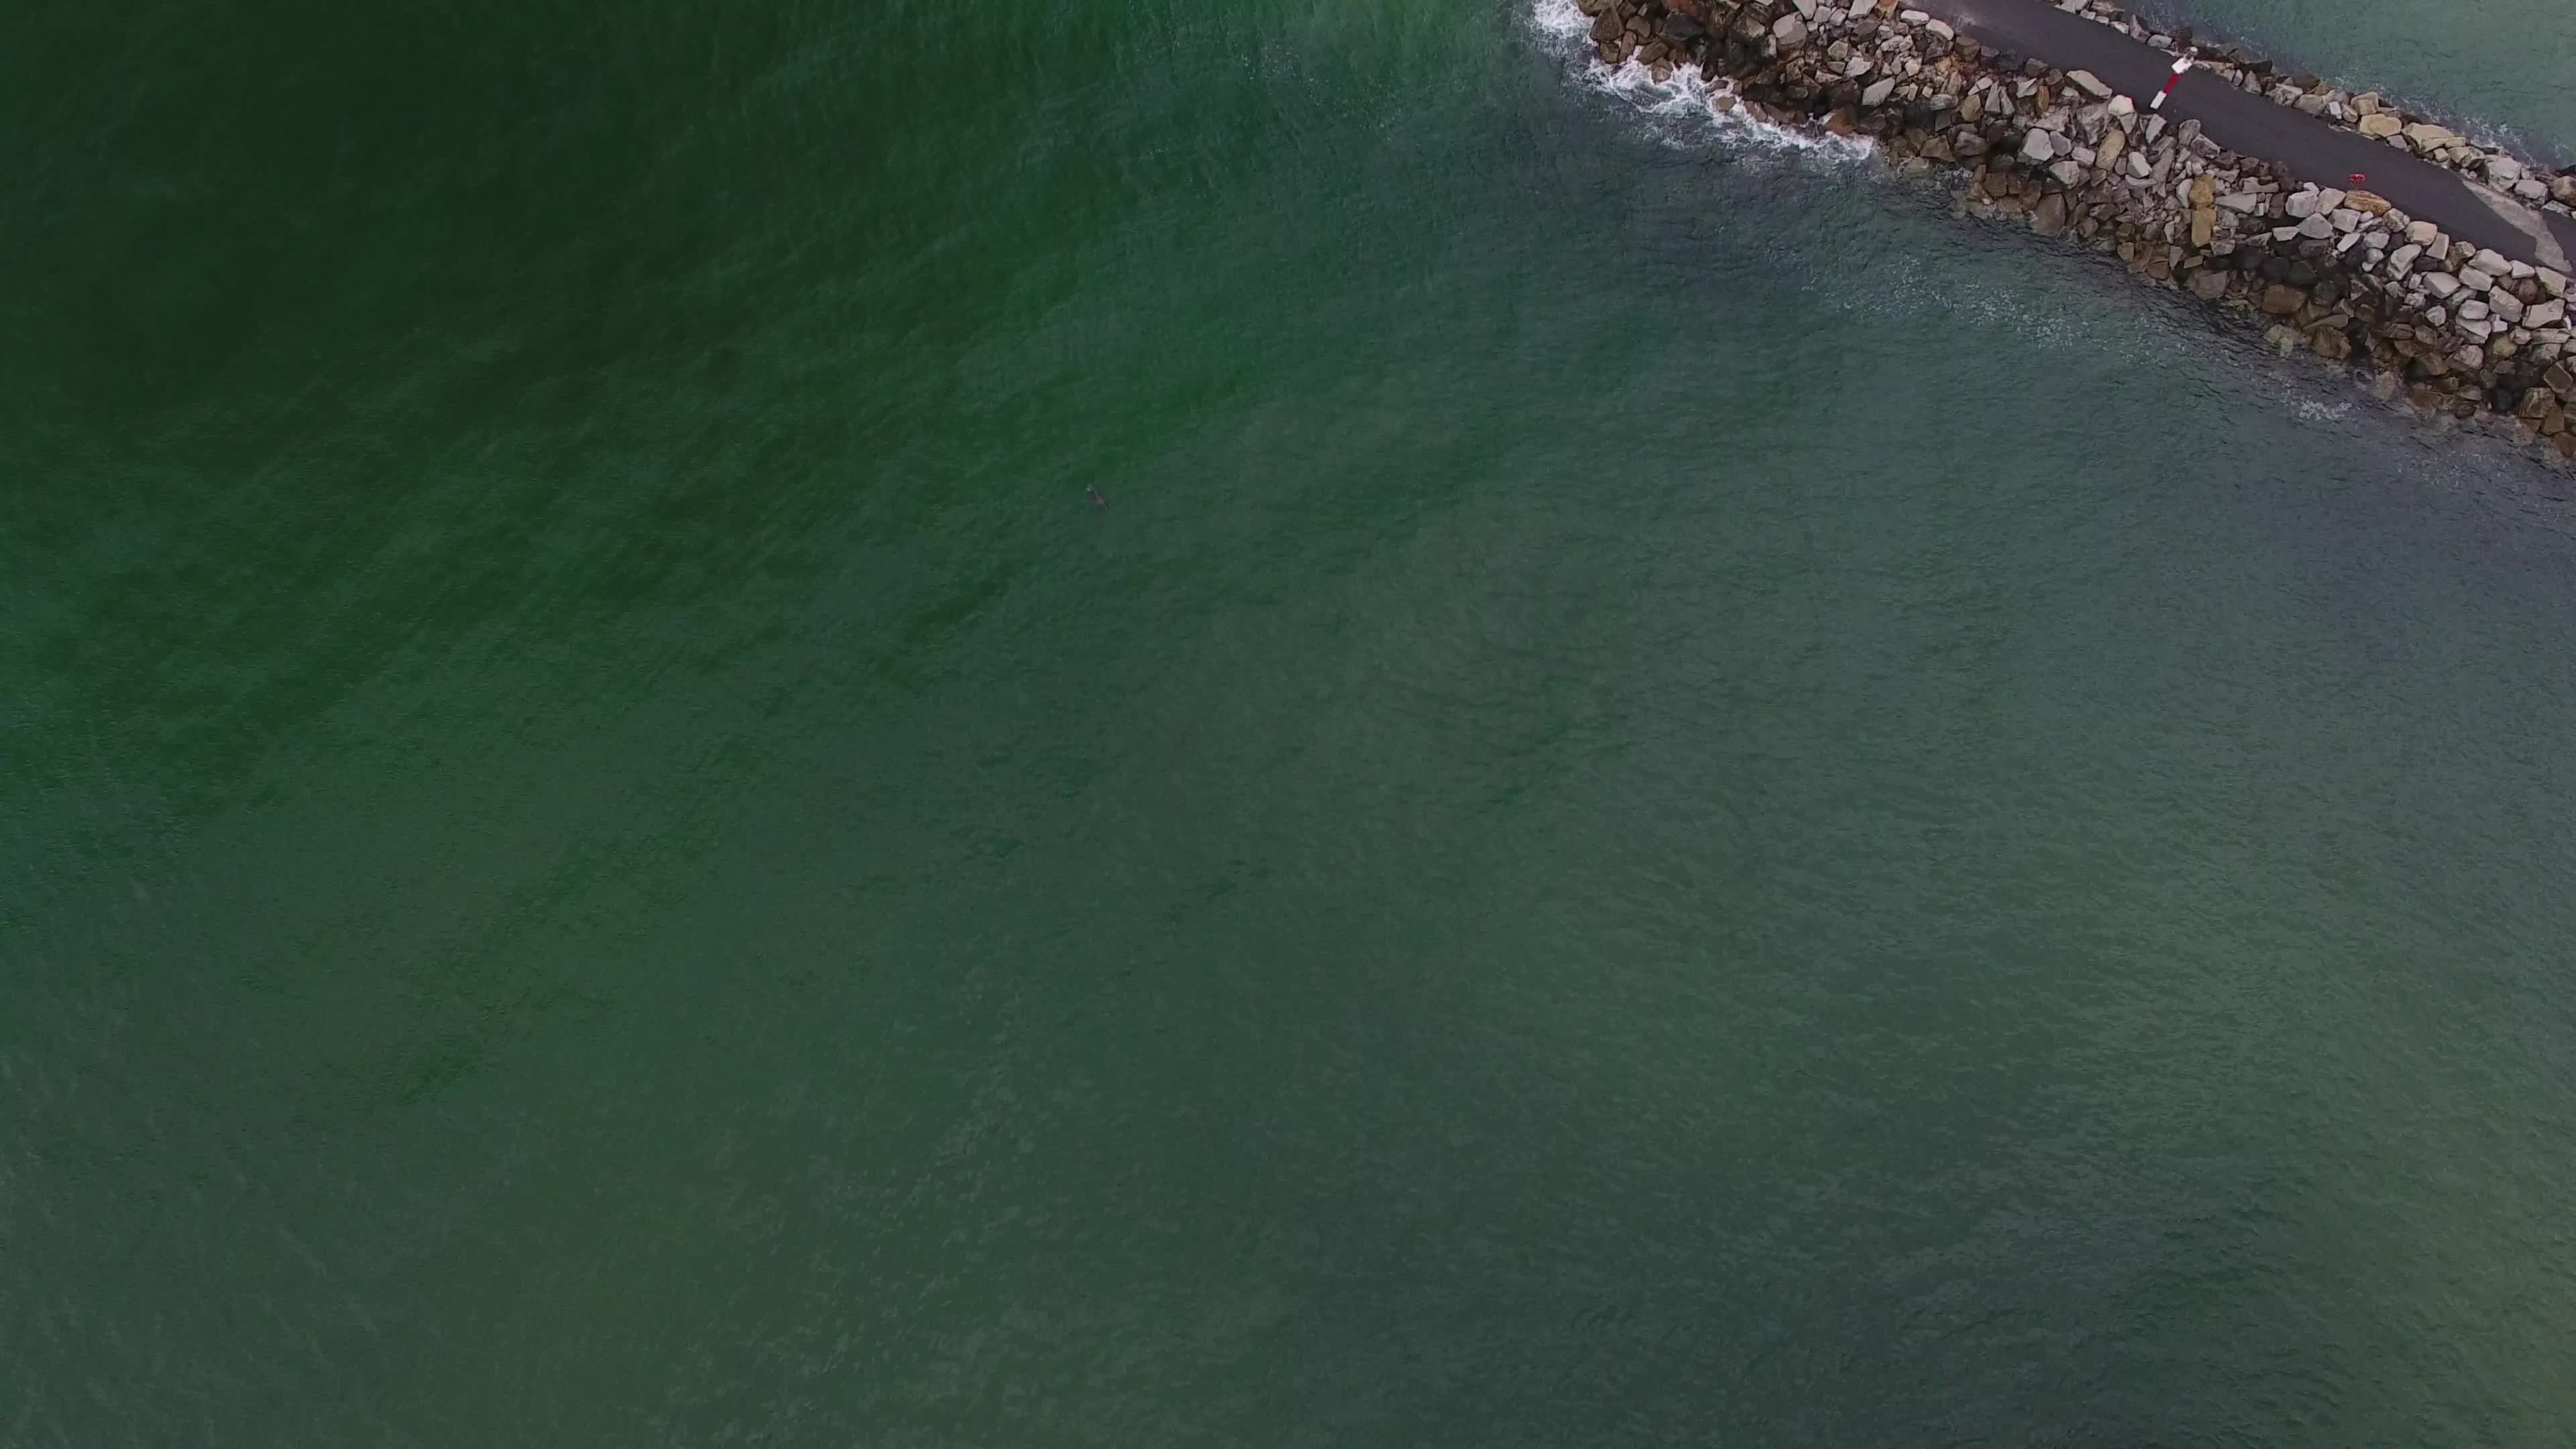dolphin: (1053, 453, 1122, 522)
